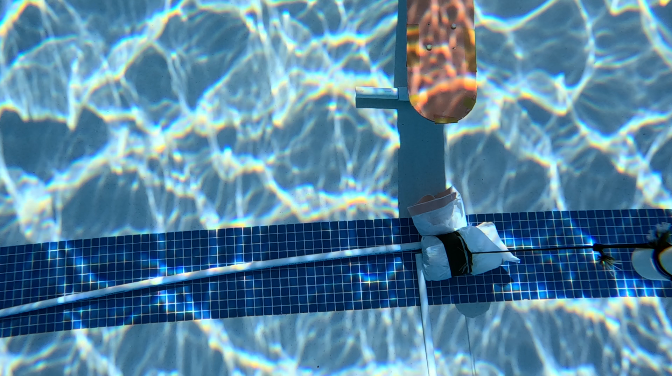pathmarker: (406, 0, 477, 123)
